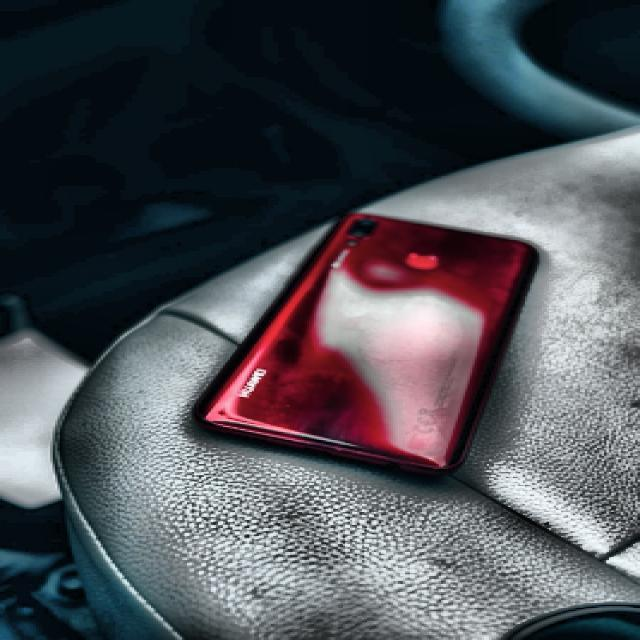Phone: (192, 208, 540, 474)
